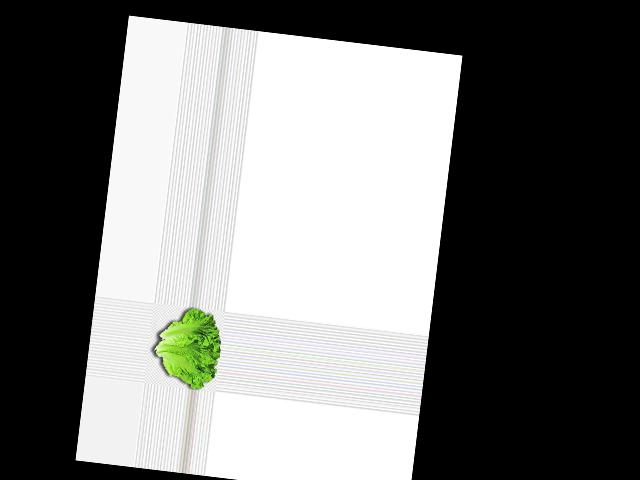lettuce: (148, 302, 224, 389)
